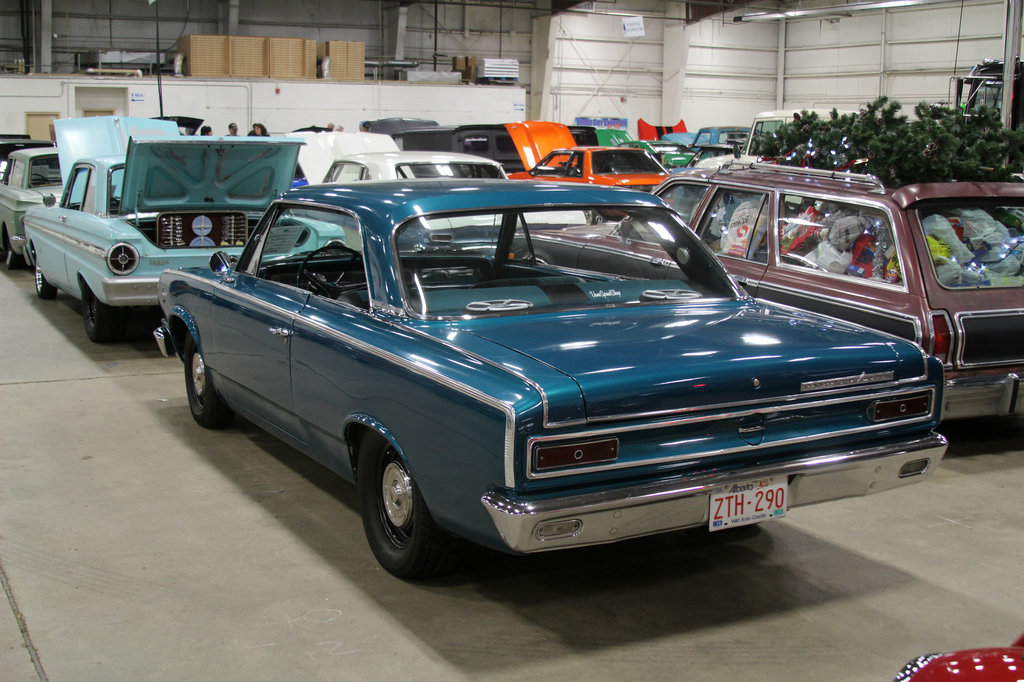Car: (0, 112, 1023, 590), (893, 628, 1023, 681)
